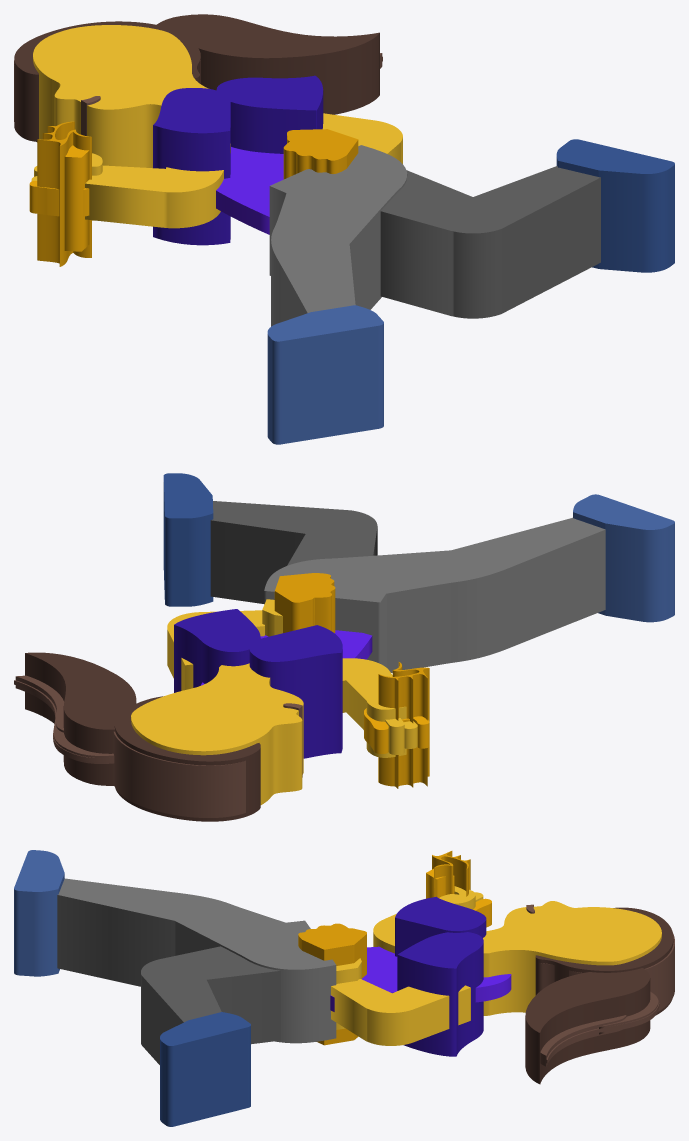
The model's file is emoji_u1f3c3_200d_2640.glb.
3 renders of one model, top to bottom at view 1: azimuth 30°, elevation 25°; view 2: azimuth 150°, elevation 25°; view 3: azimuth 270°, elevation 25°, orthographic. The views are drawn at different scales.
Parts seen in each view (by area): view 1: emoji_u1f3c3_200d_2640; view 2: emoji_u1f3c3_200d_2640; view 3: emoji_u1f3c3_200d_2640.
Part boxes in pixels (bbox=[...]): emoji_u1f3c3_200d_2640: bbox=[14, 14, 674, 444]; emoji_u1f3c3_200d_2640: bbox=[14, 473, 674, 821]; emoji_u1f3c3_200d_2640: bbox=[14, 850, 674, 1126].
Bounding box in the file's own units: 0.0227 × 0.0054 × 0.0326.
